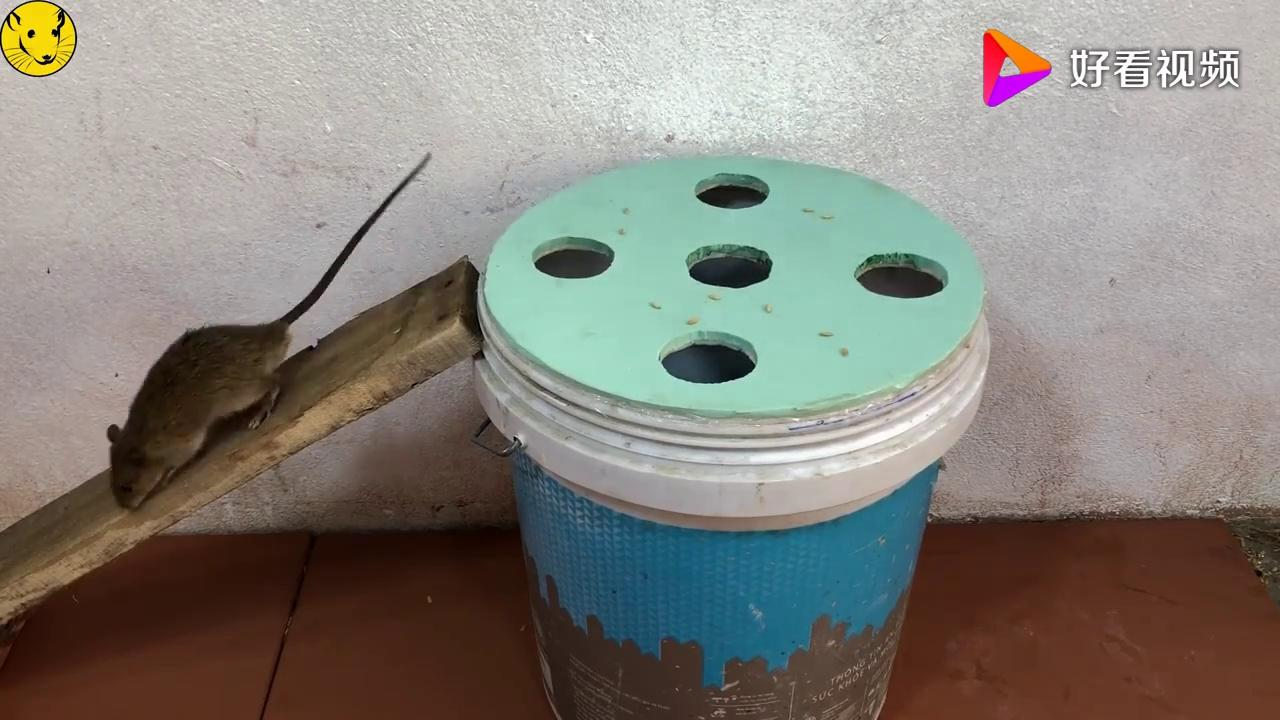rat: (91, 221, 387, 525)
